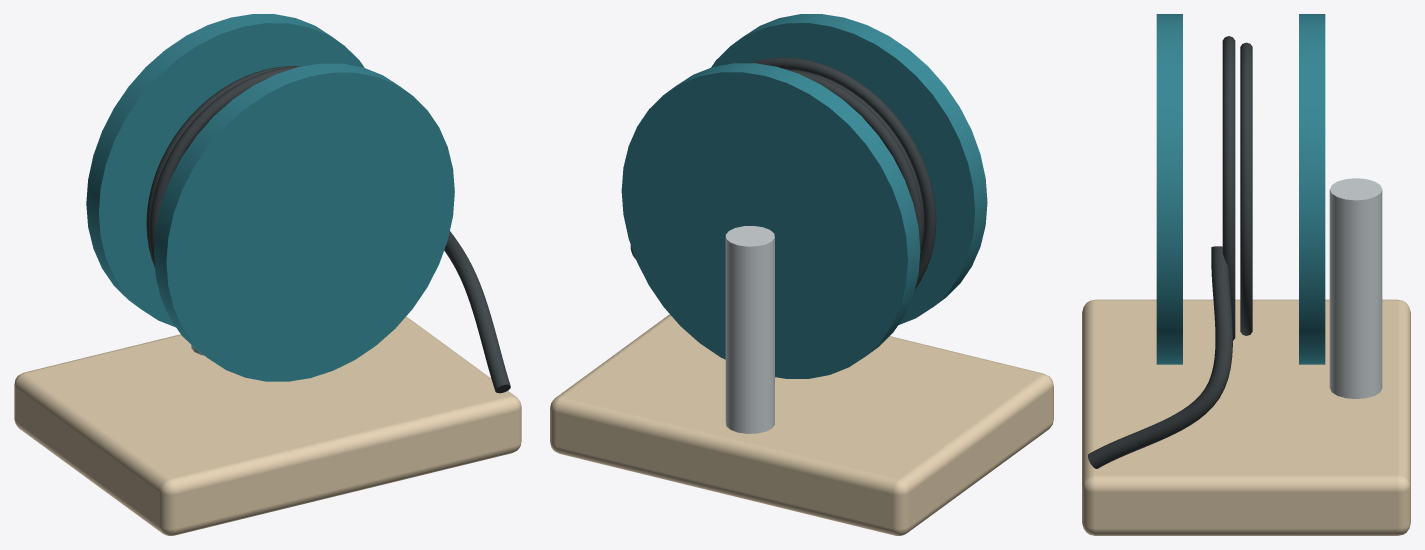
File: bicycle-shop-and-repair-cafe-cable-housing-reel-94385cbc__32408.glb
3 renders of one model, left to right at view 1: azimuth 30°, elevation 25°; view 2: azimuth 150°, elevation 25°; view 3: azimuth 270°, elevation 25°, orthographic. The views are drawn at different scales.
Parts seen in each view (by area): view 1: cable-housing-reel; view 2: cable-housing-reel; view 3: cable-housing-reel.
Part boxes in pixels (x1,y1,x2,y2): cable-housing-reel: [14, 14, 521, 535]; cable-housing-reel: [550, 14, 1053, 535]; cable-housing-reel: [1082, 14, 1410, 535].
Size of the model in its own units: 0.205 by 0.21 by 0.15.
